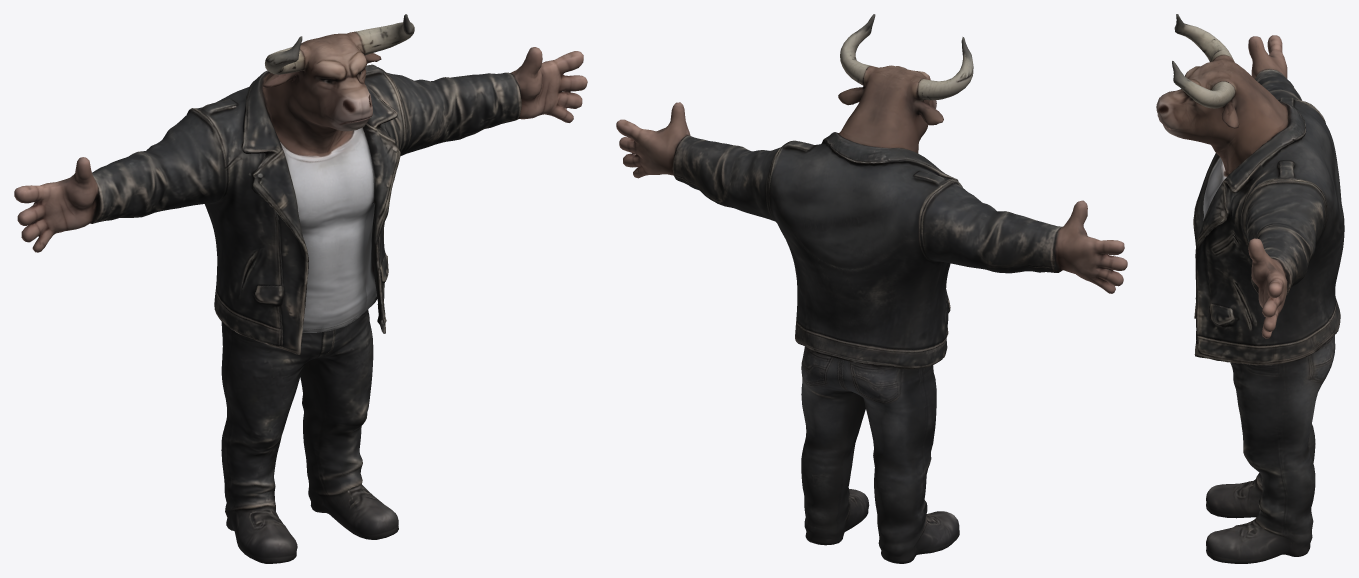
Rendered from 065_rig.fbx.
3 renders of one model, left to right at view 1: azimuth 30°, elevation 25°; view 2: azimuth 150°, elevation 25°; view 3: azimuth 270°, elevation 25°, orthographic. The views are drawn at different scales.
Visible parts, largest first — view 1: body_geometry; view 2: body_geometry; view 3: body_geometry.
Part boxes in pixels (left/top/right/bottom): body_geometry: left=14, top=14, right=587, bottom=563; body_geometry: left=616, top=14, right=1127, bottom=563; body_geometry: left=1156, top=14, right=1344, bottom=563.
Size of the model in its own units: 2 by 1.82 by 0.6253.
1 material, 1 textured.
